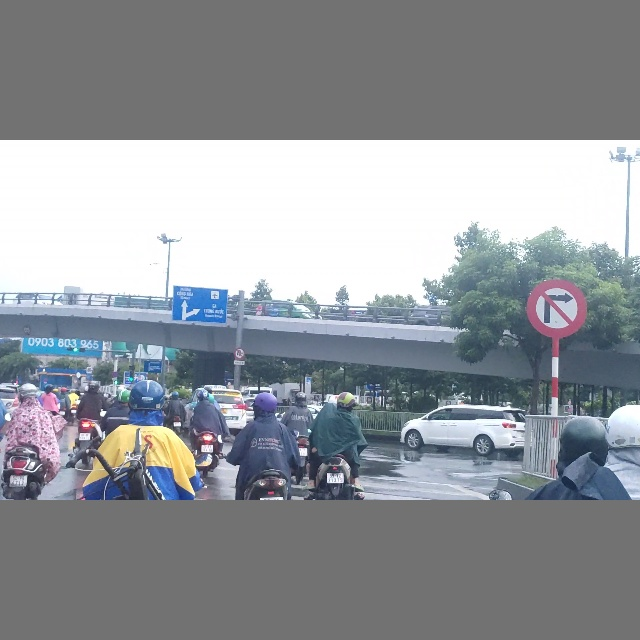P.123b: (527, 279, 588, 337)
P.124b1: (234, 347, 245, 359)
